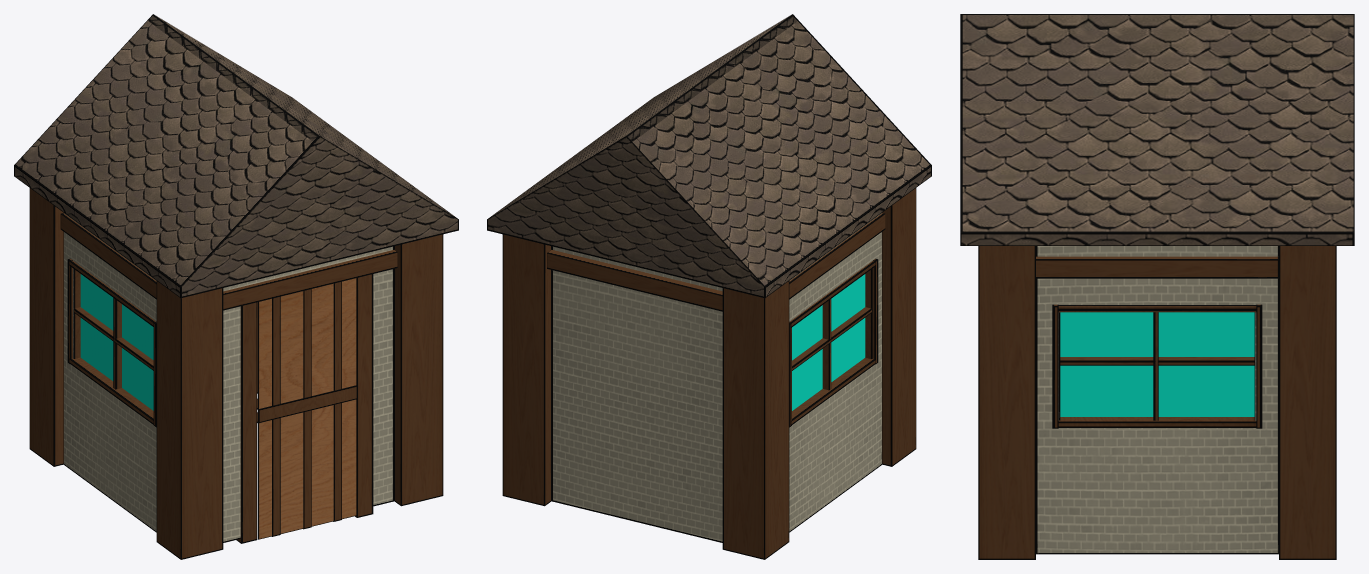
3 views of the same model, side by side, from view 1: azimuth 30°, elevation 25°; view 2: azimuth 150°, elevation 25°; view 3: azimuth 270°, elevation 25° (orthographic). The views are drawn at different scales.
Parts seen in each view (by area): view 1: House1_1; view 2: House1_1; view 3: House1_1.
Part boxes in pixels (bbox=[...]): House1_1: bbox=[14, 14, 458, 559]; House1_1: bbox=[487, 14, 931, 559]; House1_1: bbox=[960, 14, 1354, 559].
Size of the model in its own units: 63.62 by 88 by 66.07.
